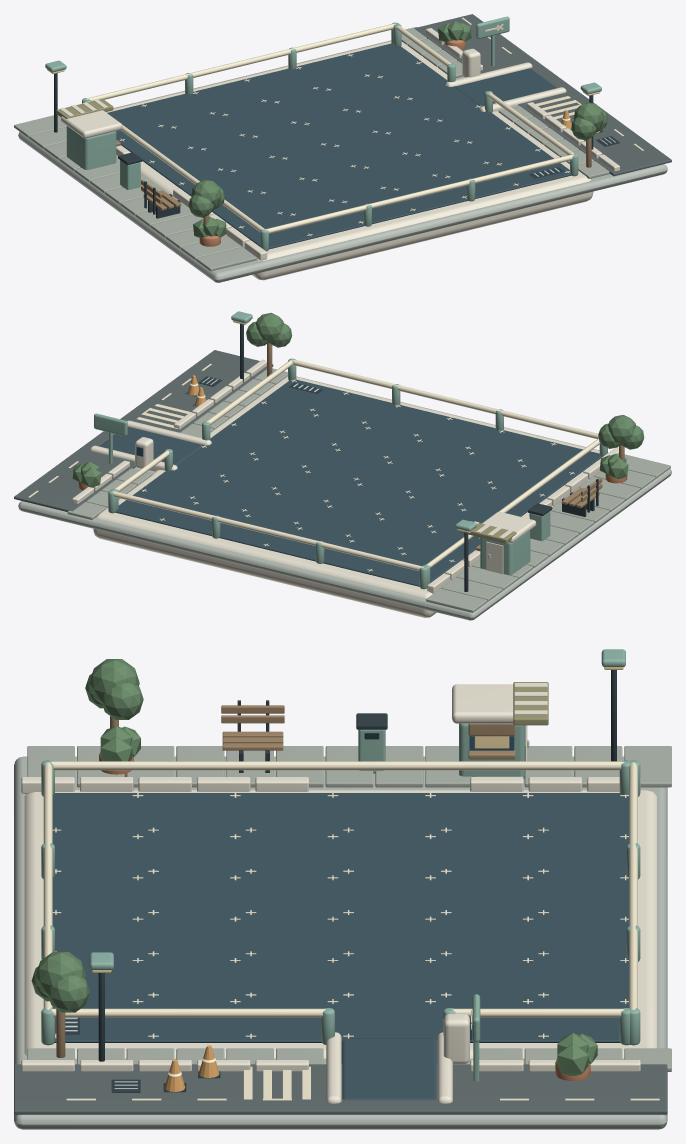
Rendered from garage.glb.
3 views of the same model, one above another, from view 1: azimuth 30°, elevation 25°; view 2: azimuth 150°, elevation 25°; view 3: azimuth 270°, elevation 25° (orthographic). The views are drawn at different scales.
Visible parts, largest first — view 1: Asphalt blue slate, Ceramic ivory.002, Sidewalk stone, Concrete apron, Warm white trim.009, Street asphalt, Painted mint rail, Garden foliage, Drain metal, Weathered wood, Canvas awning; view 2: Asphalt blue slate, Ceramic ivory.002, Sidewalk stone, Warm white trim.009, Street asphalt, Concrete apron, Painted mint rail, Garden foliage, Drain metal, Weathered wood; view 3: Asphalt blue slate, Ceramic ivory.002, Street asphalt, Sidewalk stone, Concrete apron, Warm white trim.009, Garden foliage, Painted mint rail, Weathered wood, Drain metal, Canvas awning, Barrier orange.
Part boxes in pixels (bbox=[...]): Asphalt blue slate: bbox=[107, 43, 570, 249]; Ceramic ivory.002: bbox=[60, 28, 619, 280]; Sidewalk stone: bbox=[14, 27, 609, 271]; Concrete apron: bbox=[18, 40, 667, 282]; Warm white trim.009: bbox=[86, 17, 644, 236]; Street asphalt: bbox=[414, 14, 671, 176]; Painted mint rail: bbox=[45, 16, 601, 251]; Garden foliage: bbox=[188, 21, 607, 237]; Drain metal: bbox=[54, 73, 619, 218]; Weathered wood: bbox=[116, 131, 591, 236]; Canvas awning: bbox=[56, 98, 113, 118]; Asphalt blue slate: bbox=[99, 379, 601, 586]; Ceramic ivory.002: bbox=[72, 359, 618, 617]; Sidewalk stone: bbox=[67, 368, 670, 612]; Warm white trim.009: bbox=[28, 359, 600, 582]; Street asphalt: bbox=[14, 350, 273, 511]; Concrete apron: bbox=[18, 376, 671, 620]; Painted mint rail: bbox=[94, 311, 607, 589]; Garden foliage: bbox=[72, 312, 644, 487]; Drain metal: bbox=[198, 324, 598, 591]; Weathered wood: bbox=[267, 343, 624, 551]; Asphalt blue slate: bbox=[52, 793, 628, 1100]; Ceramic ivory.002: bbox=[21, 683, 656, 1103]; Street asphalt: bbox=[14, 1064, 667, 1114]; Sidewalk stone: bbox=[27, 746, 671, 1071]; Concrete apron: bbox=[14, 756, 667, 1129]; Warm white trim.009: bbox=[43, 761, 659, 1100]; Garden foliage: bbox=[31, 659, 597, 1075]; Painted mint rail: bbox=[41, 649, 640, 1081]; Weathered wood: bbox=[56, 705, 515, 1057]; Drain metal: bbox=[65, 670, 616, 1092]; Canvas awning: bbox=[513, 682, 548, 725]; Barrier orange: bbox=[164, 1045, 219, 1091].
Size of the model in its own units: 8.88 by 1.73 by 6.74.
